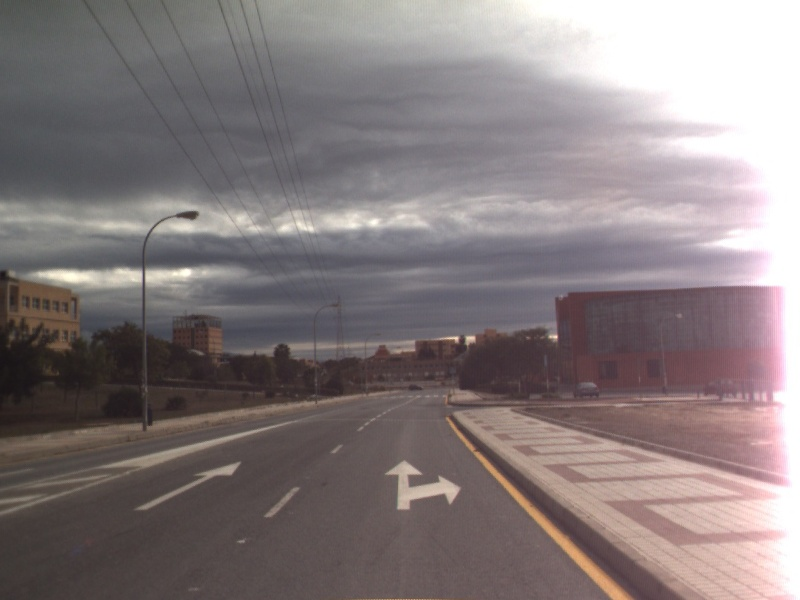STRAIGHT: (132, 459, 243, 512)
STRAIGHT_RIGHT: (383, 458, 464, 512)
